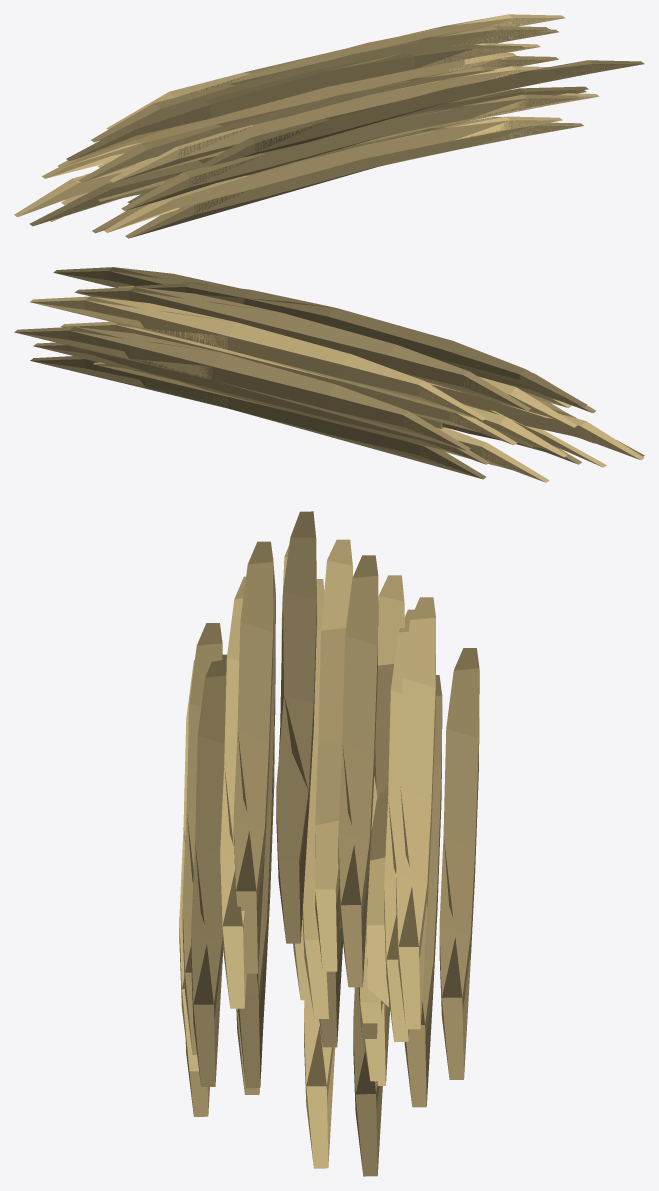
Rendered from grassBundle.fbx.
3 renders of one model, top to bottom at view 1: azimuth 30°, elevation 25°; view 2: azimuth 150°, elevation 25°; view 3: azimuth 270°, elevation 25°, orthographic. The views are drawn at different scales.
Parts seen in each view (by area): view 1: grassBundle; view 2: grassBundle; view 3: grassBundle.
Boxes of the visible parts, x1=… form: grassBundle: x1=14, y1=14, x2=644, y2=238; grassBundle: x1=14, y1=267, x2=644, y2=482; grassBundle: x1=179, y1=511, x2=479, y2=1176.
Bounding box in the file's own units: 3150 × 540 × 676.
